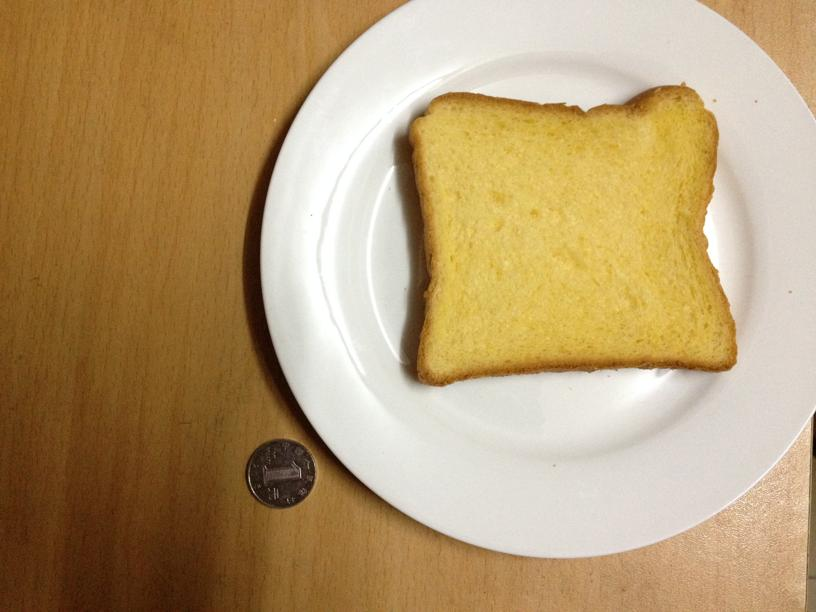bread: (398, 83, 739, 383)
coin: (244, 438, 314, 508)
